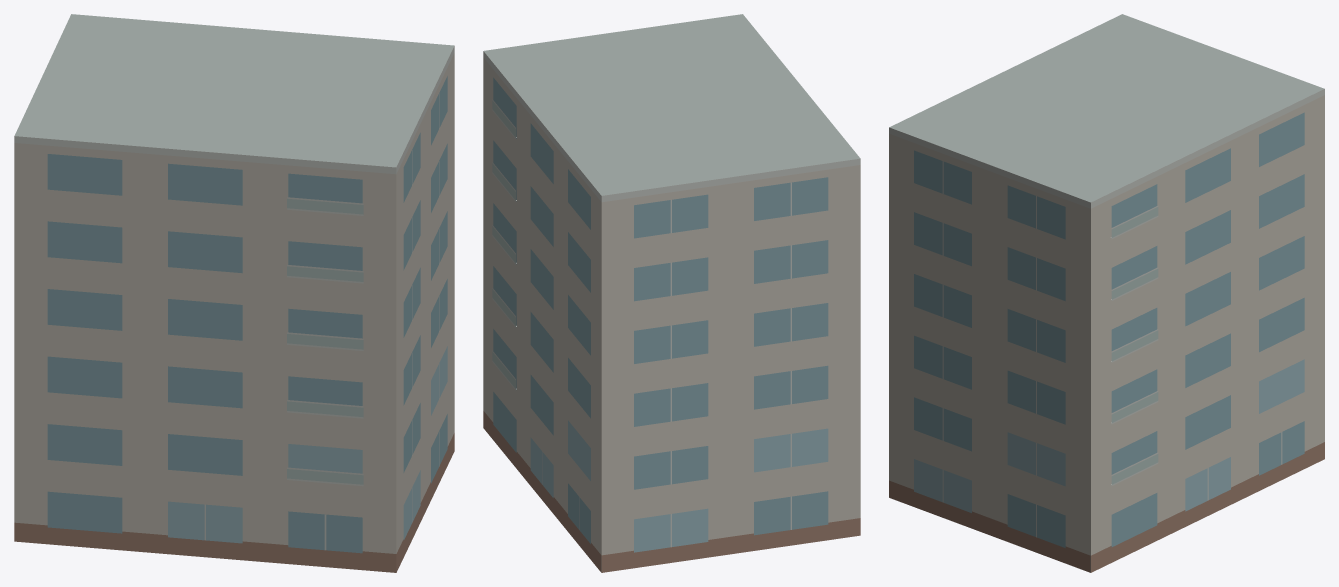
File: survey-upis-32885827.glb
3 views of the same model, side by side, from view 1: azimuth 30°, elevation 25°; view 2: azimuth 150°, elevation 25°; view 3: azimuth 270°, elevation 25° (orthographic). The views are drawn at different scales.
Visible parts, largest first — view 1: survey-upis-32885827.tmp; view 2: survey-upis-32885827.tmp; view 3: survey-upis-32885827.tmp.
Part boxes in pixels (x1=…): survey-upis-32885827.tmp: x1=14, y1=14, x2=454, y2=572; survey-upis-32885827.tmp: x1=483, y1=14, x2=860, y2=572; survey-upis-32885827.tmp: x1=889, y1=14, x2=1324, y2=572.
Size of the model in its own units: 15.84 by 14.5 by 15.47.
